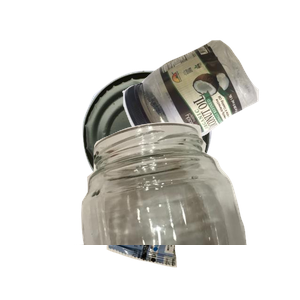glass: (74, 120, 300, 300)
metal: (80, 68, 284, 248)
plastic: (120, 37, 300, 185)
trash: (104, 152, 280, 300)
